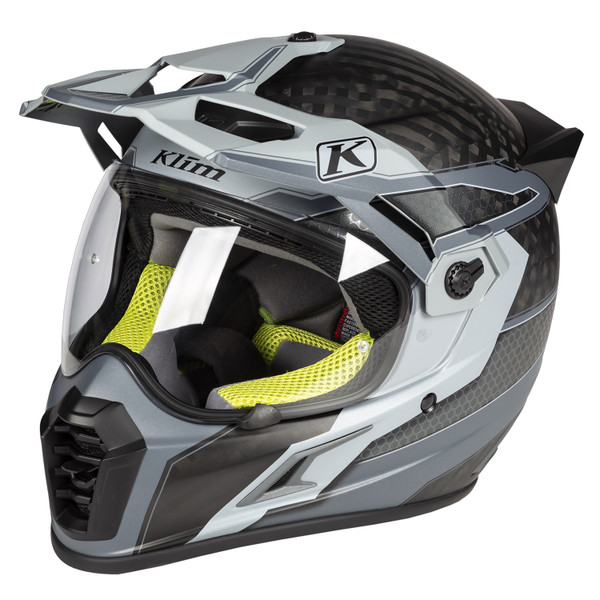with_helmet: (12, 22, 590, 577)
